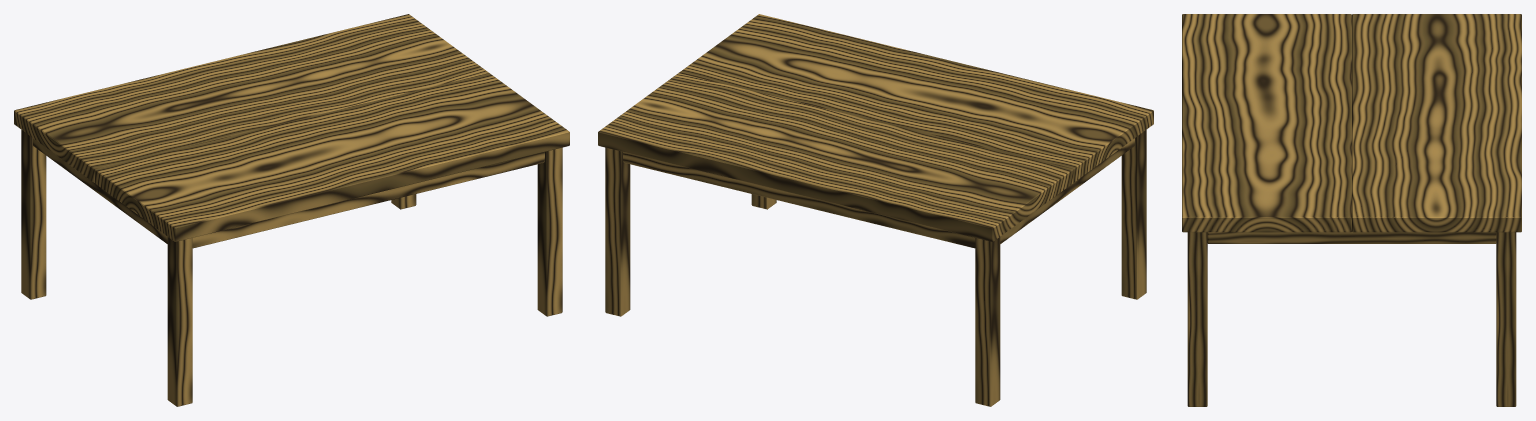
File: table_1.gltf
The picture shows the model from 3 angles, left to right: view 1: azimuth 30°, elevation 25°; view 2: azimuth 150°, elevation 25°; view 3: azimuth 270°, elevation 25°; orthographic projection. The views are drawn at different scales.
Visible parts, largest first — view 1: table_export; view 2: table_export; view 3: table_export.
Boxes of the visible parts, bbox=[...] form: table_export: bbox=[14, 14, 569, 406]; table_export: bbox=[598, 14, 1153, 406]; table_export: bbox=[1182, 14, 1521, 406].
Bounding box in the file's own units: 1.7 × 0.75 × 1.2.
1 material, 1 textured.
